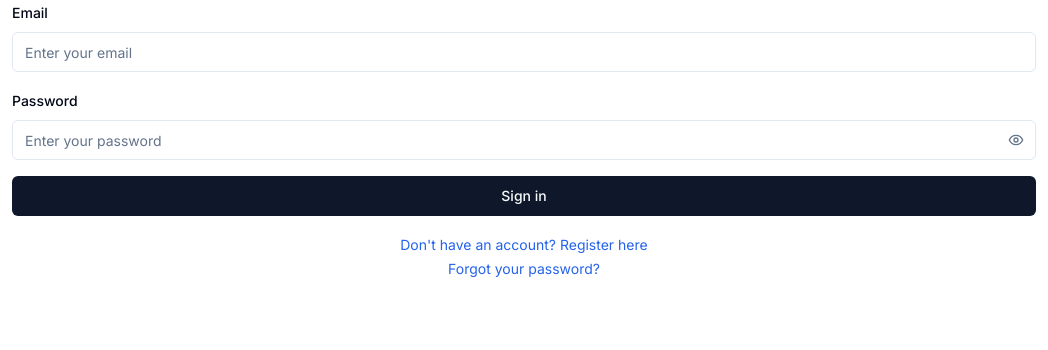
LoginForm Component › Form Validation › should require email field
Click the button with test id "login-button" at (524, 196), box [12,176,1036,216]
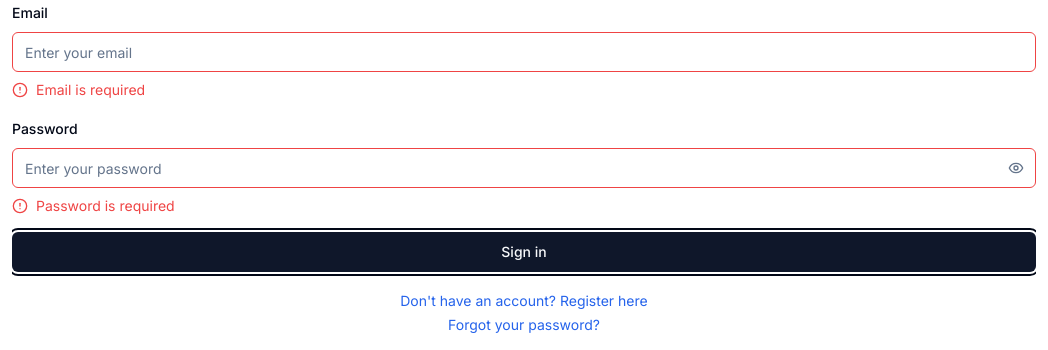
Expected: the text "Email is required" is shown, [36,80,145,100]
